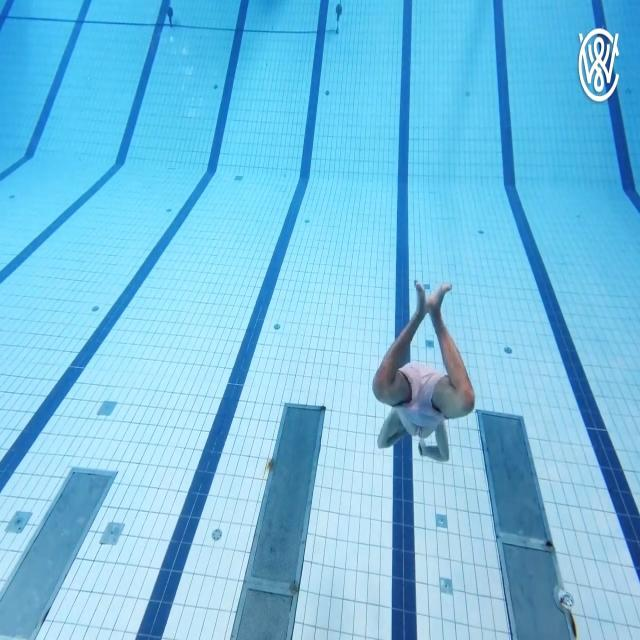Swimming: (372, 278, 476, 463)
